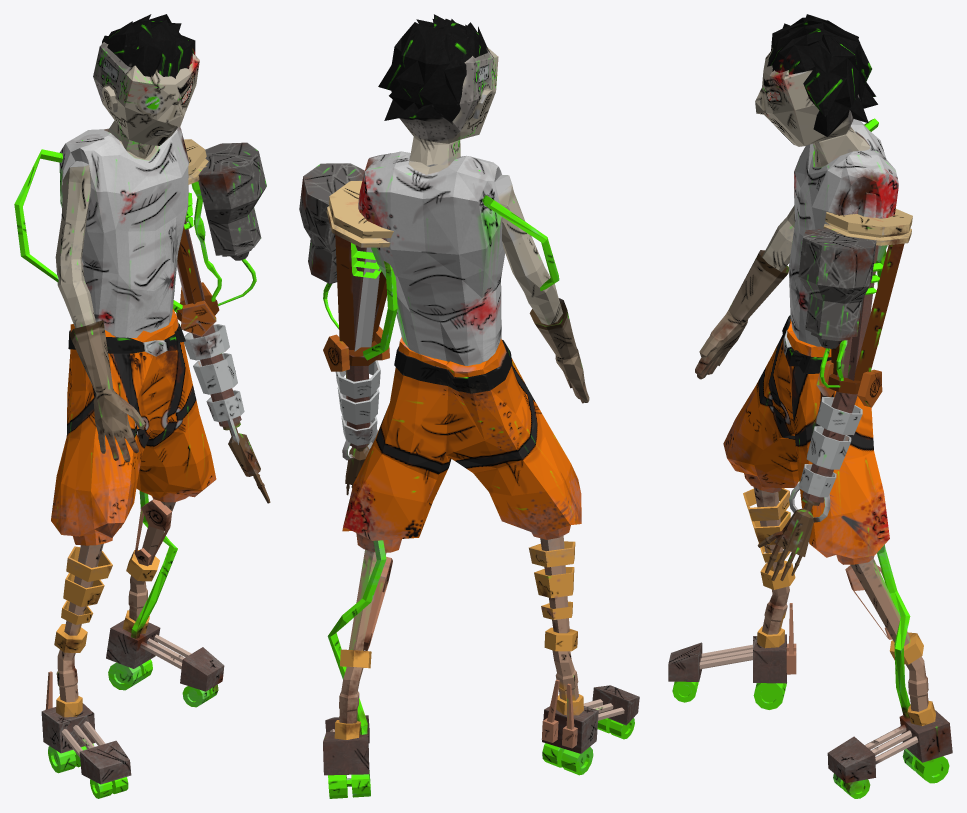
Rendered from CyborgFINALAnimation_000160.obj.
3 views of the same model, side by side, from view 1: azimuth 30°, elevation 25°; view 2: azimuth 150°, elevation 25°; view 3: azimuth 270°, elevation 25° (orthographic). The views are drawn at different scales.
Visible parts, largest first — view 1: CyborgMesh_Cube.002; view 2: CyborgMesh_Cube.002; view 3: CyborgMesh_Cube.002.
Part boxes in pixels (x1,y1,x2,y2): CyborgMesh_Cube.002: (14,14,270,798); CyborgMesh_Cube.002: (299,14,639,798); CyborgMesh_Cube.002: (668,14,952,798).
Size of the model in its own units: 3.46 by 9.62 by 3.36.
